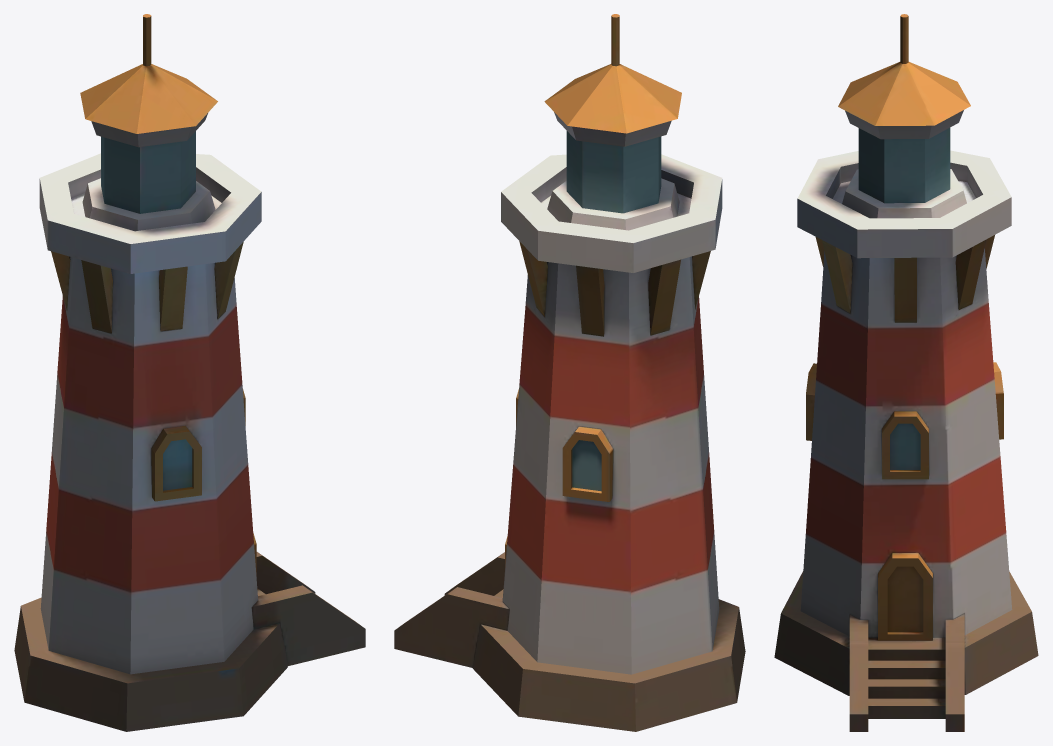
File: bk72ChfpGo-.glb
3 views of the same model, side by side, from view 1: azimuth 30°, elevation 25°; view 2: azimuth 150°, elevation 25°; view 3: azimuth 270°, elevation 25° (orthographic). The views are drawn at different scales.
Visible parts, largest first — view 1: lighthouse_Icosphere.029; view 2: lighthouse_Icosphere.029; view 3: lighthouse_Icosphere.029.
Boxes of the visible parts, box(x1,y1,x2,y2) form: lighthouse_Icosphere.029: box(14, 14, 365, 731); lighthouse_Icosphere.029: box(394, 14, 745, 731); lighthouse_Icosphere.029: box(774, 14, 1038, 731).
Size of the model in its own units: 0.4963 by 1 by 0.3808.
1 material, 1 textured.
